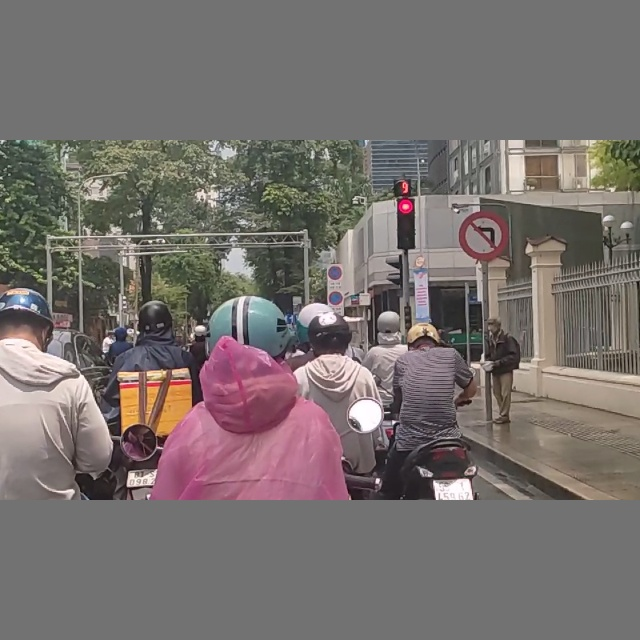P.123a: (458, 210, 509, 259)
P.130: (327, 264, 343, 280)
P.131a: (327, 291, 343, 307)
